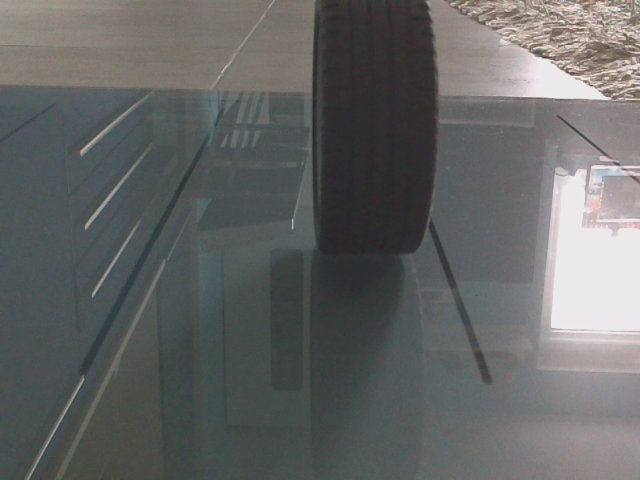Rad: (308, 2, 443, 261)
